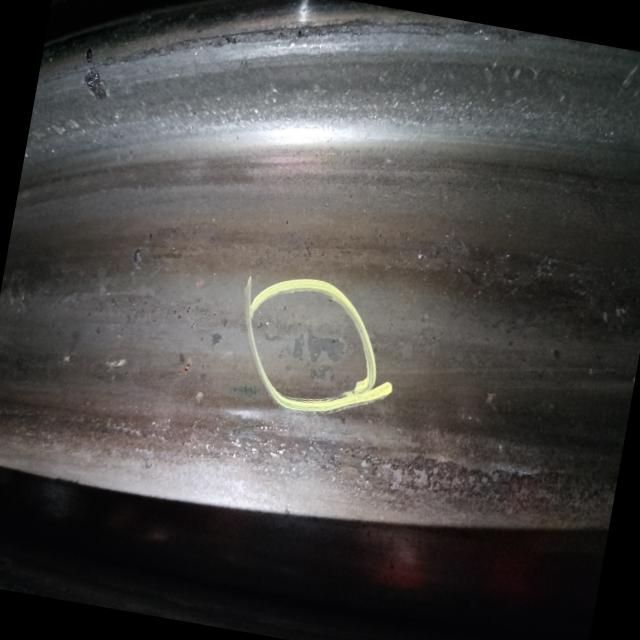Blue hole: (250, 296, 366, 395)
Contact_Fatigue_Cracks: (67, 398, 457, 538)
